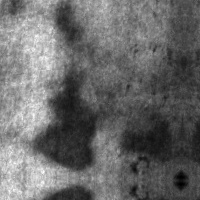patches: (33, 71, 98, 168), (121, 109, 174, 161), (56, 2, 81, 44)
